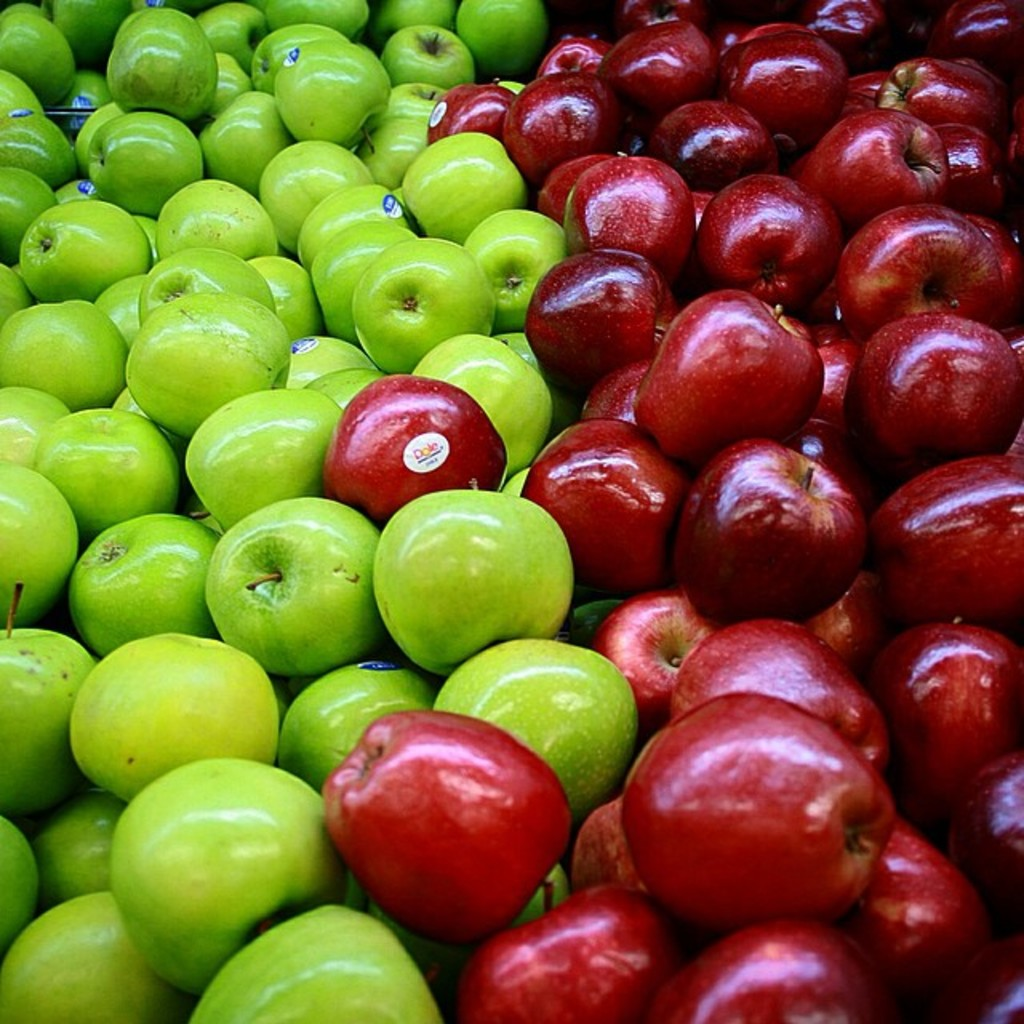Apple: (0, 0, 1022, 1022), (329, 224, 492, 361)
